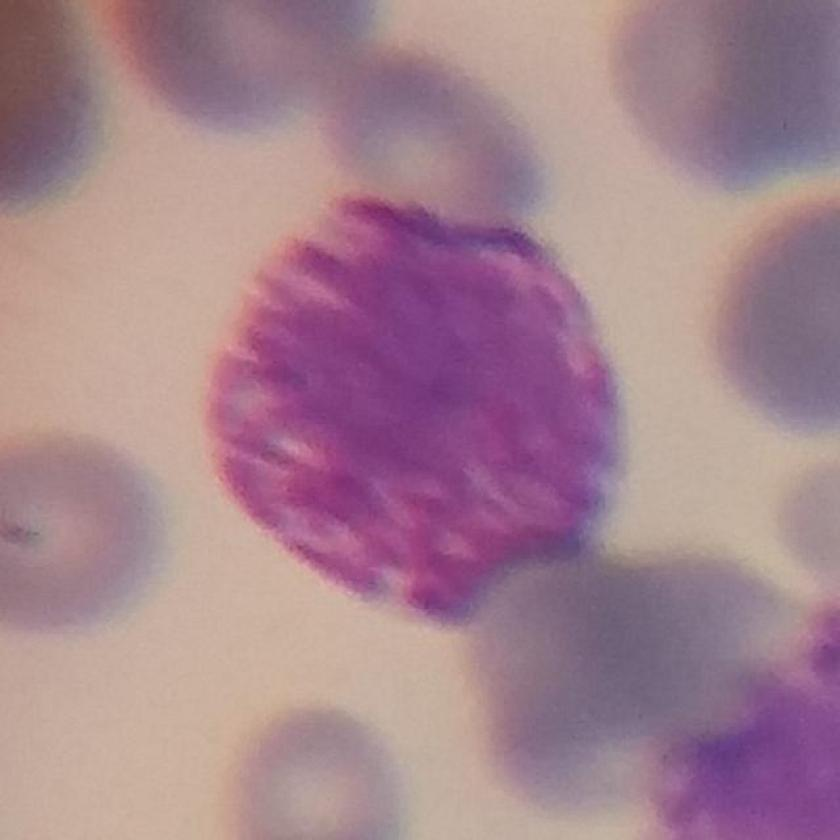basophil: (179, 164, 639, 640)
